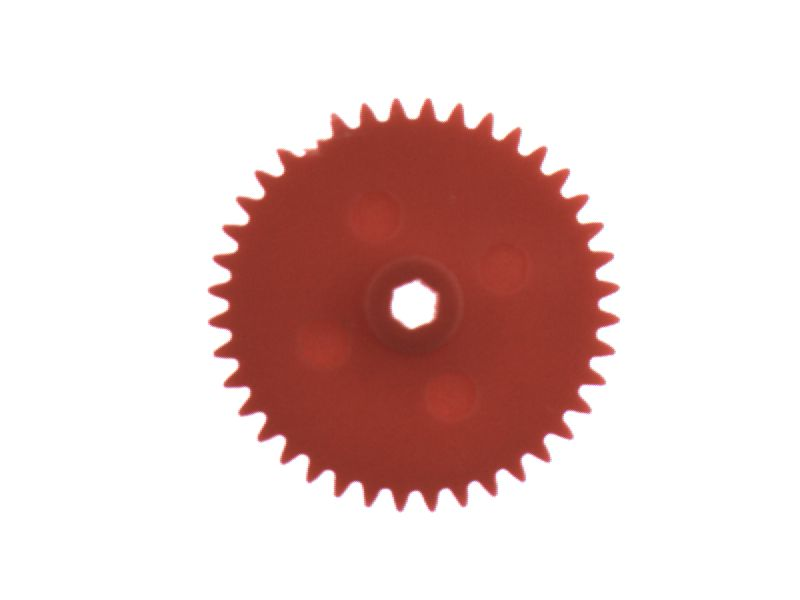defect_lack: (283, 120, 342, 164)
